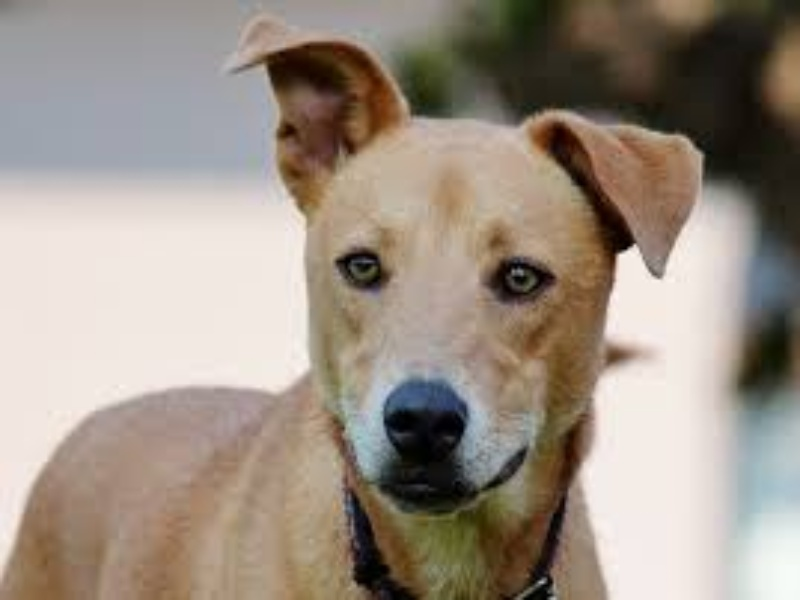dog: (3, 10, 712, 600)
